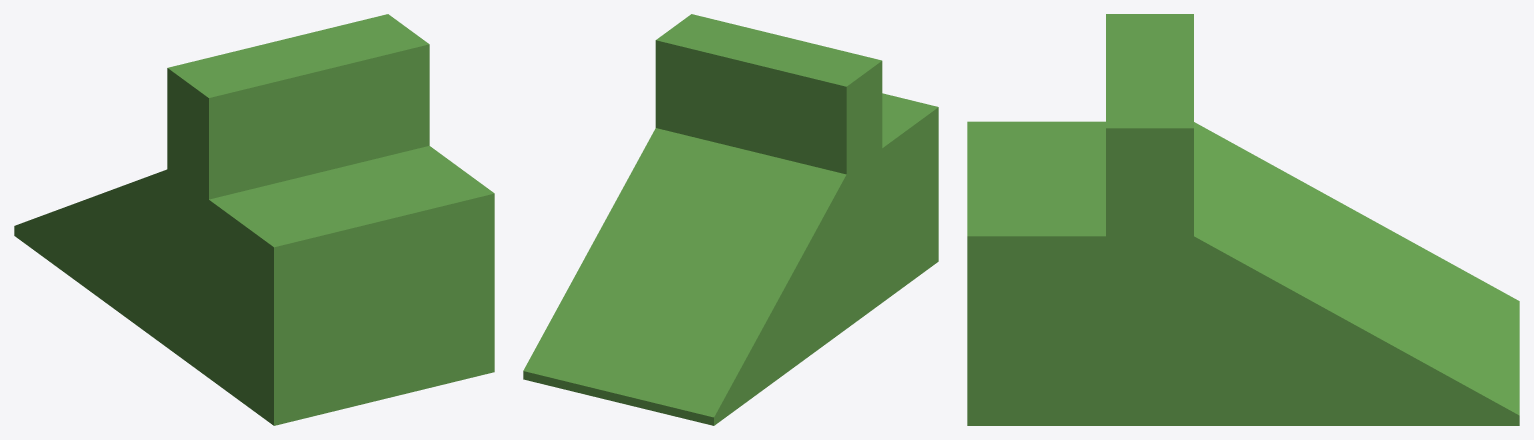
The model's file is md_hill.fbx.
3 renders of one model, left to right at view 1: azimuth 30°, elevation 25°; view 2: azimuth 150°, elevation 25°; view 3: azimuth 270°, elevation 25°, orthographic. The views are drawn at different scales.
Visible parts, largest first — view 1: pCube42; view 2: pCube42; view 3: pCube42.
Boxes of the visible parts, left/top/right/bottom form: pCube42: left=14, top=14, right=494, bottom=425; pCube42: left=523, top=14, right=938, bottom=425; pCube42: left=967, top=14, right=1519, bottom=425.
Size of the model in its own units: 1 by 1.21 by 2.04.
